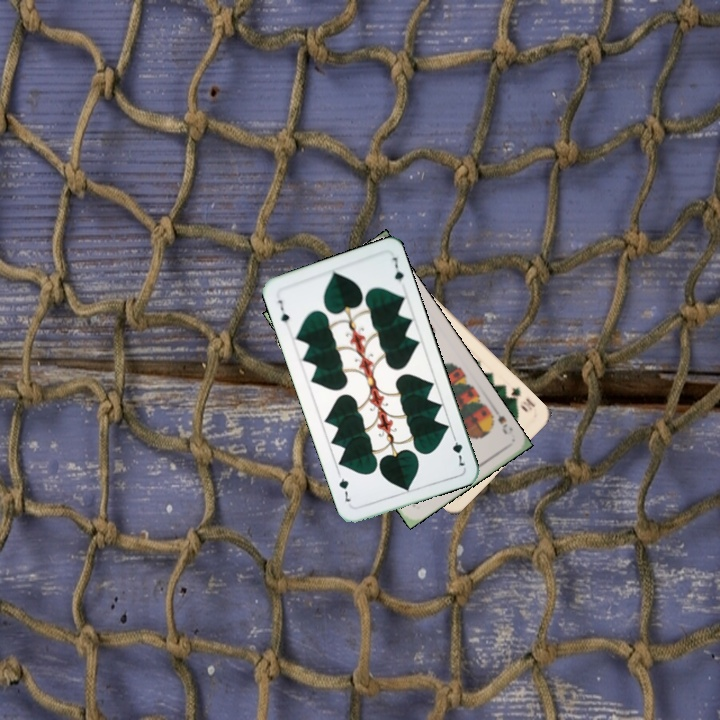G10: (507, 382, 538, 415)
G7: (448, 430, 468, 469), (274, 296, 292, 331)
S9: (485, 403, 510, 437)
